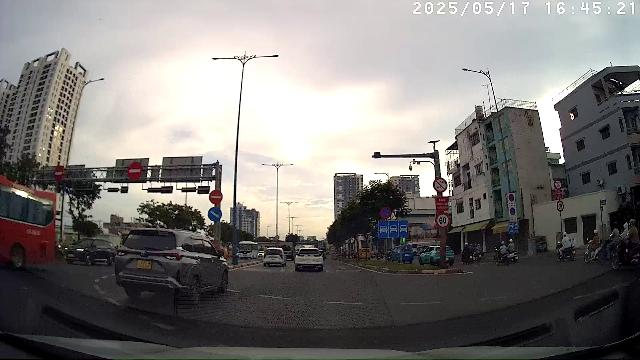102-cam-di-nguoc-chieu: (126, 162, 142, 180), (209, 190, 223, 205)
127-toc-do-toi-da-50: (556, 200, 564, 211)
127-toc-do-toi-da-60: (436, 212, 450, 230)
130-cam-dung-va-do-xe: (54, 165, 64, 181), (379, 206, 391, 219)
302a-huong-phai-di-vong-chuong-ngai-vat-1: (208, 206, 222, 222)
